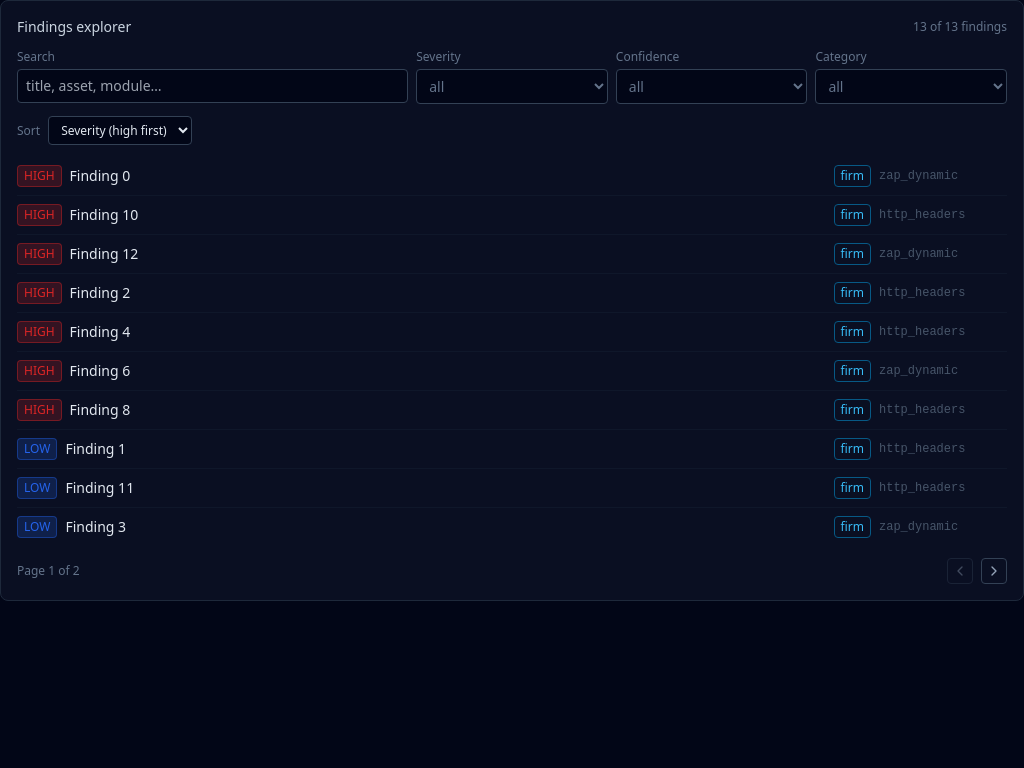
FindingsExplorer › filters by severity
Select "high" in the dropdown labelled "Severity": (512, 86) [416,69,608,104]
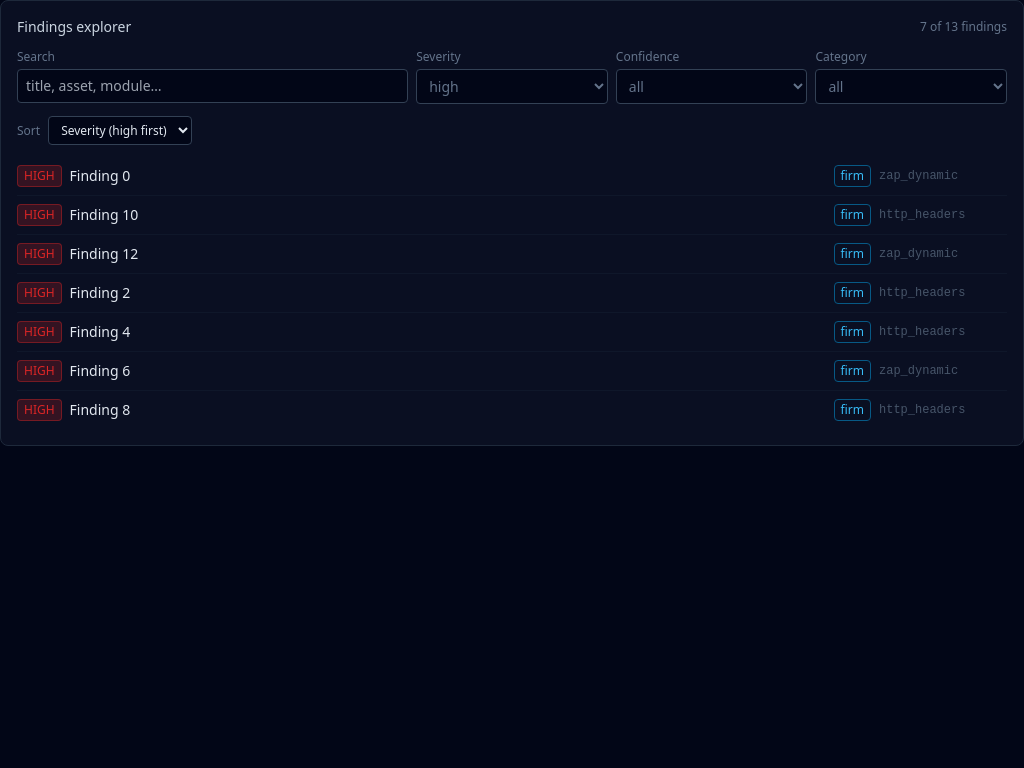
Expected: the text with test id "explorer-count" reads "7 of 13 findings", [920,19,1007,35]
